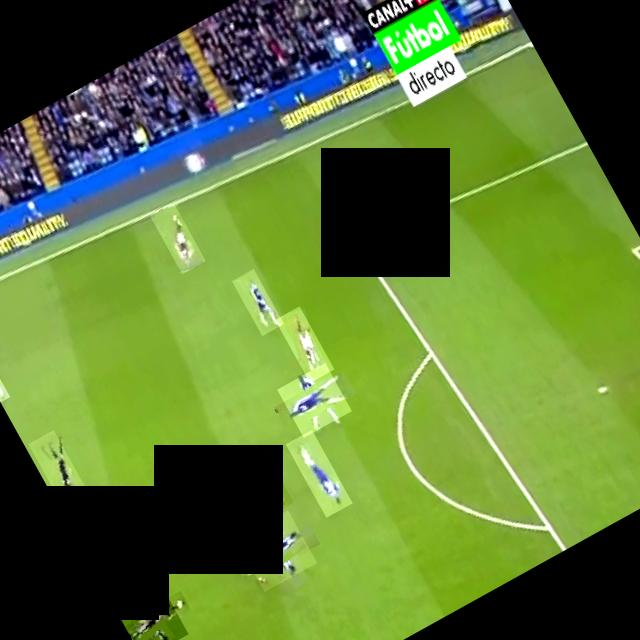ball: (242, 484, 264, 506)
referee: (27, 429, 91, 514)
soccer-player: (183, 468, 284, 570), (234, 509, 316, 592), (284, 429, 352, 517), (276, 362, 351, 437), (274, 306, 333, 382), (112, 581, 187, 640), (149, 202, 205, 274), (231, 268, 283, 336), (0, 336, 9, 402)
